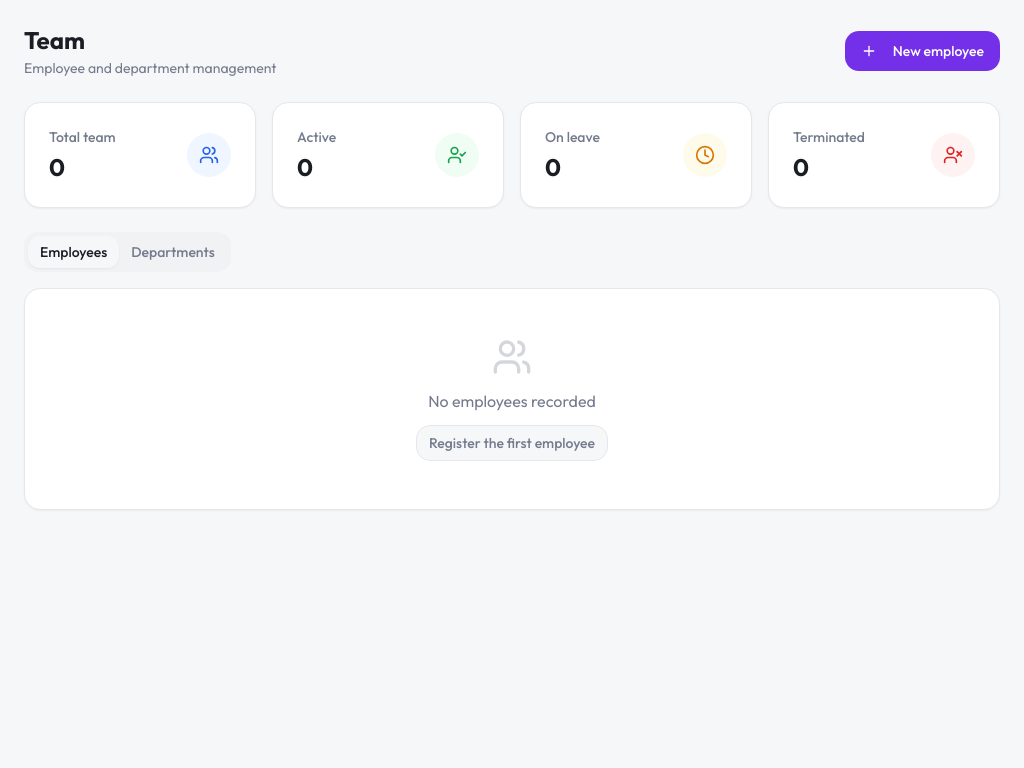
Scenario: HR in English › explains an empty team and offers to register the first employee
The image size is (1024, 768).
Expected: the text "No employees recorded" is shown, [428,391,596,411]
Click the button "Register the first employee": (512, 443) [416,425,608,461]
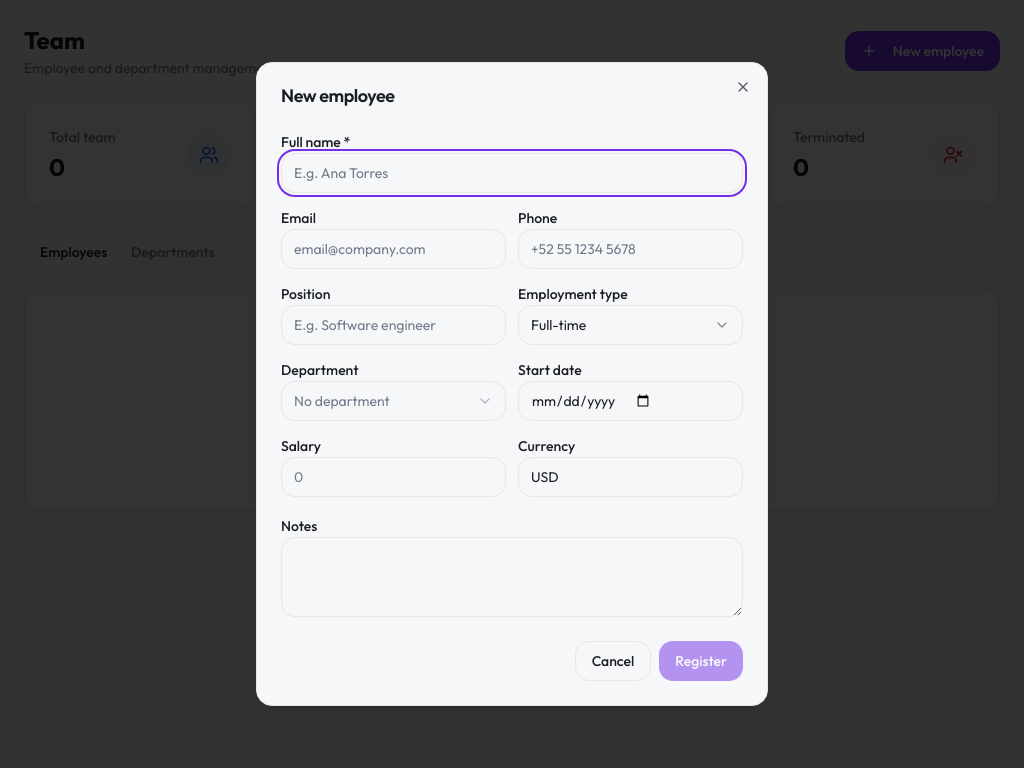
Now the heading "New employee" is shown, box [281,84,395,107]
